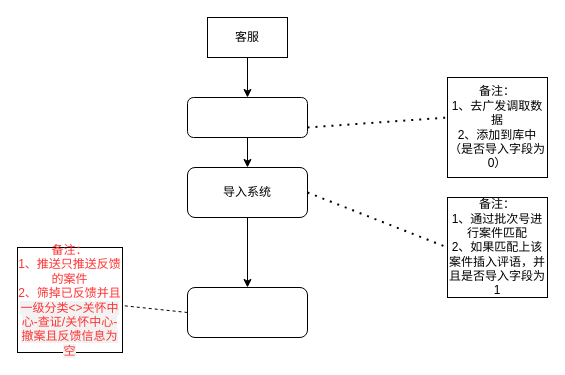
This 565x375 diagram has some shape labels left out. The centre of each missing label's shape, as x and y in pixels:
"推送给广发" belongs at point (247, 312).
"查询" belongs at point (247, 117).
